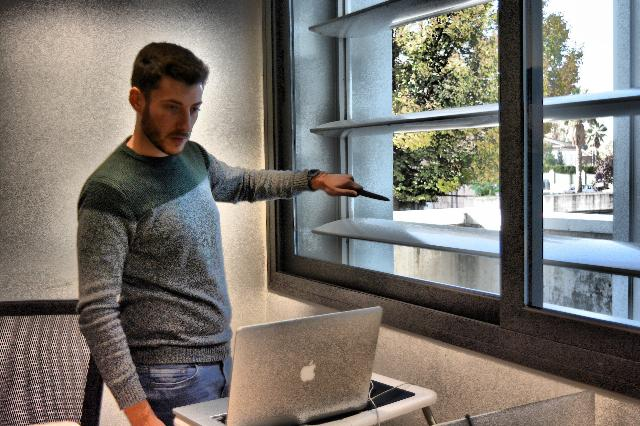knife: (343, 183, 392, 203)
